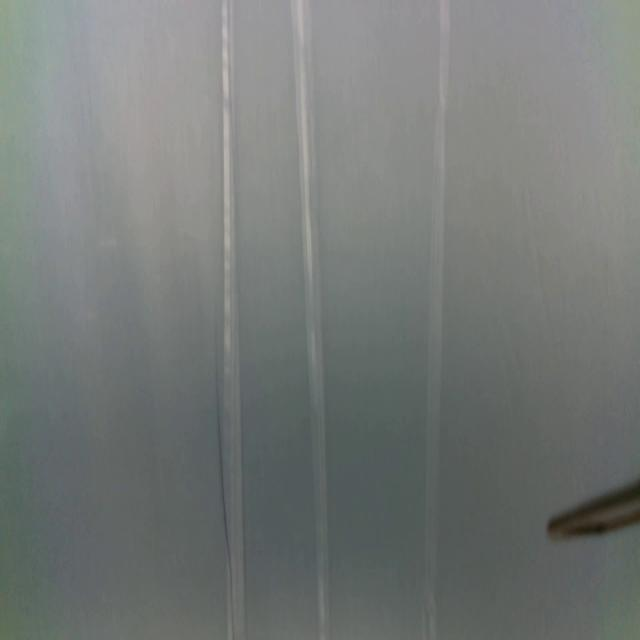crease: (290, 0, 330, 640), (420, 0, 452, 638), (221, 0, 247, 640)
